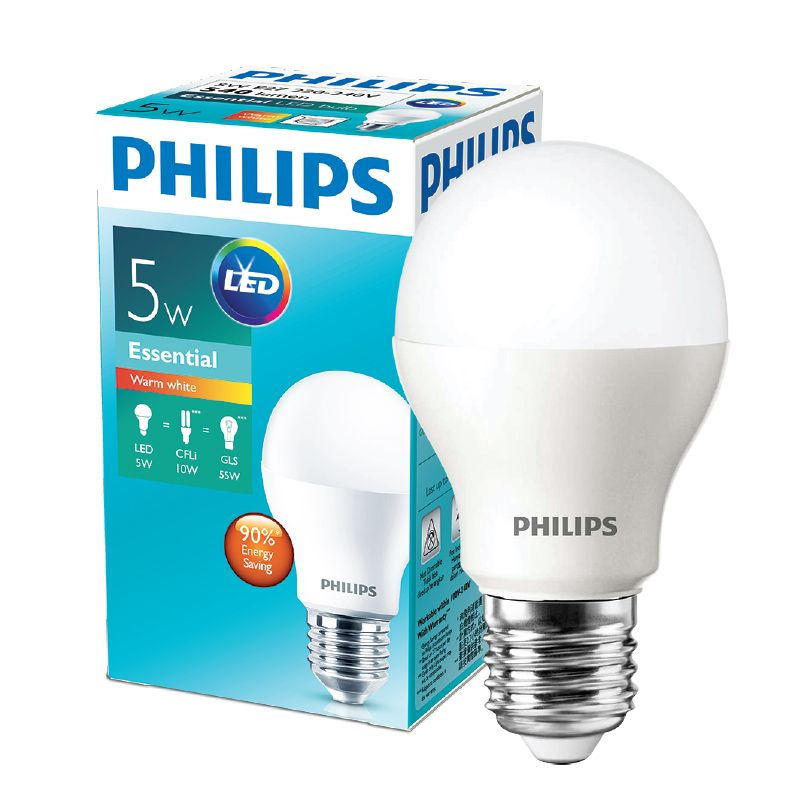Light_bulb: (394, 141, 745, 773)
